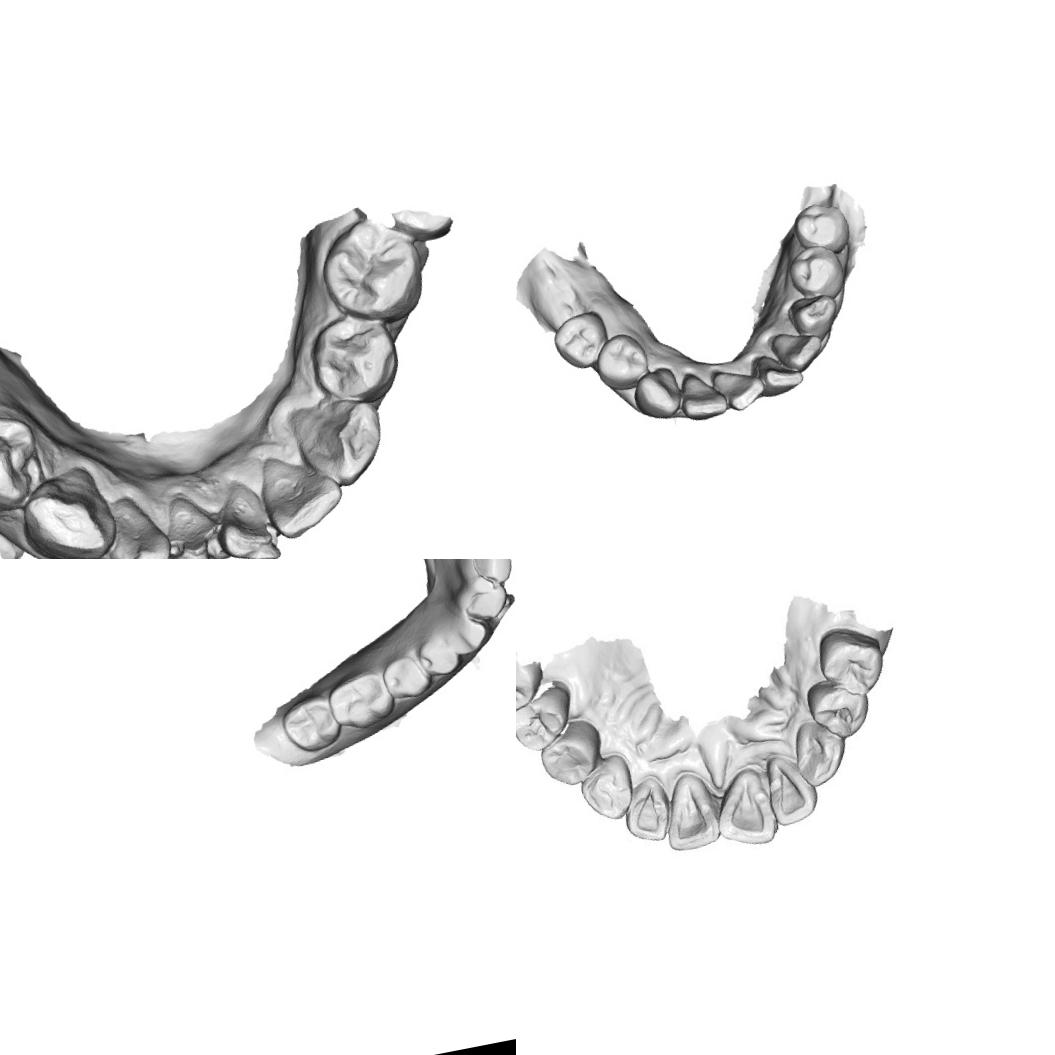canine: (288, 391, 393, 493), (19, 471, 119, 559), (573, 751, 640, 826), (788, 715, 853, 791), (628, 365, 684, 423), (784, 288, 845, 341), (442, 610, 489, 656)
incisor: (258, 443, 352, 544), (704, 760, 784, 852), (653, 766, 723, 856), (209, 477, 284, 559), (158, 491, 235, 559), (760, 747, 823, 828), (100, 497, 178, 559), (616, 774, 676, 847), (674, 364, 729, 425), (709, 357, 766, 414), (768, 324, 826, 378), (458, 572, 511, 624), (756, 350, 808, 400), (470, 559, 515, 586)
molar: (314, 216, 424, 324), (323, 666, 398, 733), (277, 690, 345, 756)
premolar: (301, 310, 409, 411), (810, 618, 891, 704), (532, 714, 608, 790), (0, 407, 49, 522), (802, 671, 876, 745), (516, 680, 585, 757), (782, 240, 852, 306), (547, 306, 613, 374), (588, 328, 654, 393), (788, 196, 851, 257), (378, 650, 434, 702), (416, 636, 462, 680)
